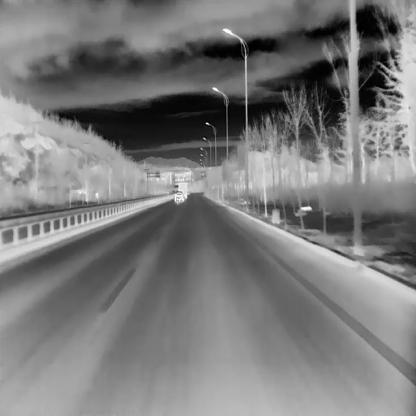car: (174, 190, 184, 202)
truck: (178, 182, 188, 198)
